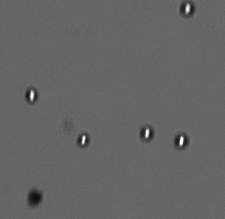Living Cell: (23, 85, 40, 105), (137, 124, 155, 142), (74, 132, 93, 149), (173, 131, 190, 150), (178, 1, 197, 17)
